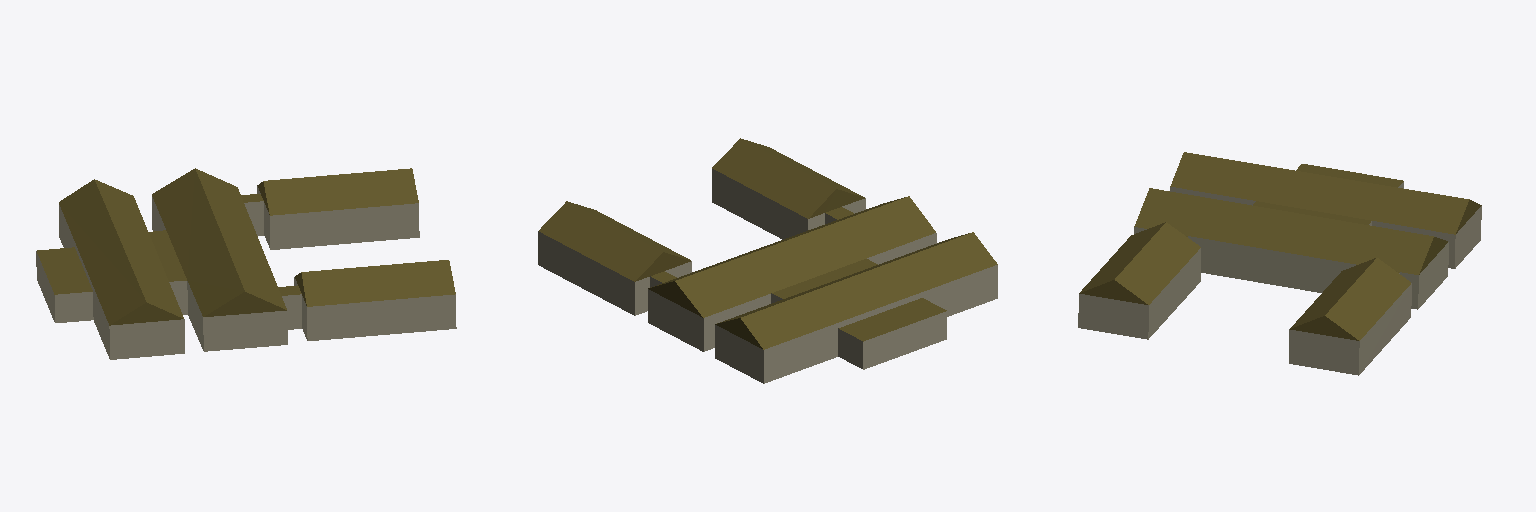
The model's file is StudentSuccessCntr.obj.
The picture shows the model from 3 angles: view 1: azimuth 30°, elevation 25°; view 2: azimuth 150°, elevation 25°; view 3: azimuth 270°, elevation 25°; orthographic projection.
Visible parts, largest first — view 1: SM_Sdsc; view 2: SM_Sdsc; view 3: SM_Sdsc.
Boxes of the visible parts, x1,y1,x2,y2 form: SM_Sdsc: [36, 168, 456, 359]; SM_Sdsc: [538, 138, 997, 383]; SM_Sdsc: [1078, 152, 1481, 375].
Bounding box in the file's own units: 4316 × 668 × 3960.